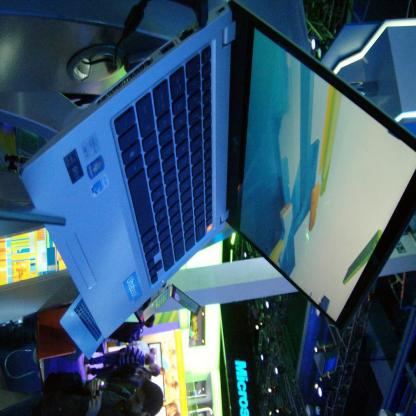board: (18, 1, 416, 338), (59, 293, 105, 360), (142, 284, 202, 324)
